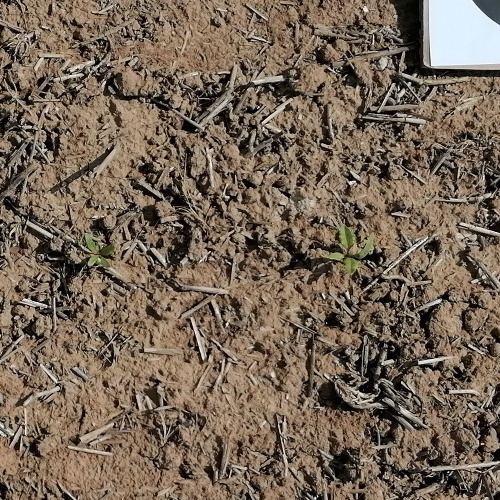beet: (327, 224, 373, 275), (83, 233, 118, 270)
